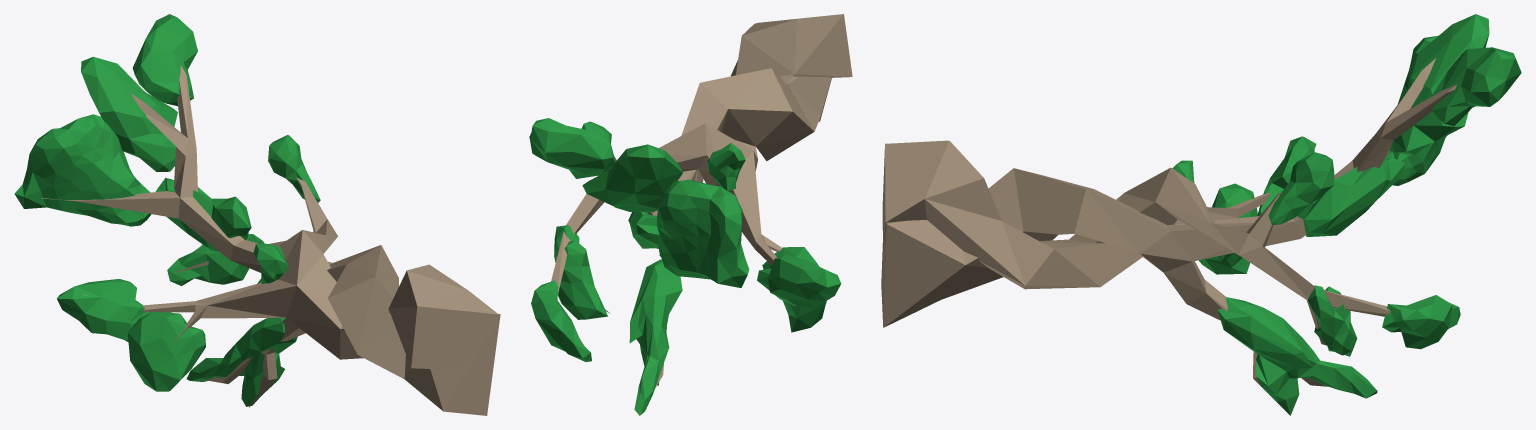
Rendered from olive_tree_brush.dae.
3 views of the same model, side by side, from view 1: azimuth 30°, elevation 25°; view 2: azimuth 150°, elevation 25°; view 3: azimuth 270°, elevation 25° (orthographic). The views are drawn at different scales.
Visible parts, largest first — view 1: olive_tree; view 2: olive_tree; view 3: olive_tree.
Boxes of the visible parts, bbox=[...] form: olive_tree: bbox=[14, 14, 500, 415]; olive_tree: bbox=[529, 14, 852, 415]; olive_tree: bbox=[881, 14, 1521, 415].
Size of the model in its own units: 5.01 by 8.99 by 5.74.
